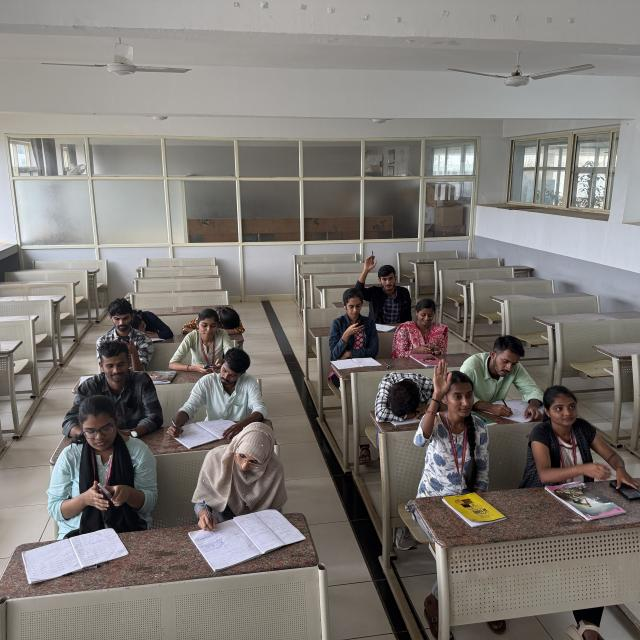Hand Rising: (423, 359, 490, 475), (354, 252, 408, 320)
Reading: (197, 421, 307, 555)
Sleeping: (372, 369, 436, 426), (185, 300, 251, 338), (127, 302, 177, 342)
Using Phone: (508, 378, 640, 501), (46, 400, 154, 534), (66, 342, 166, 441), (167, 306, 231, 372), (92, 298, 151, 357), (328, 288, 379, 356), (395, 299, 448, 357)
Writing: (169, 351, 266, 443), (466, 332, 544, 420)
